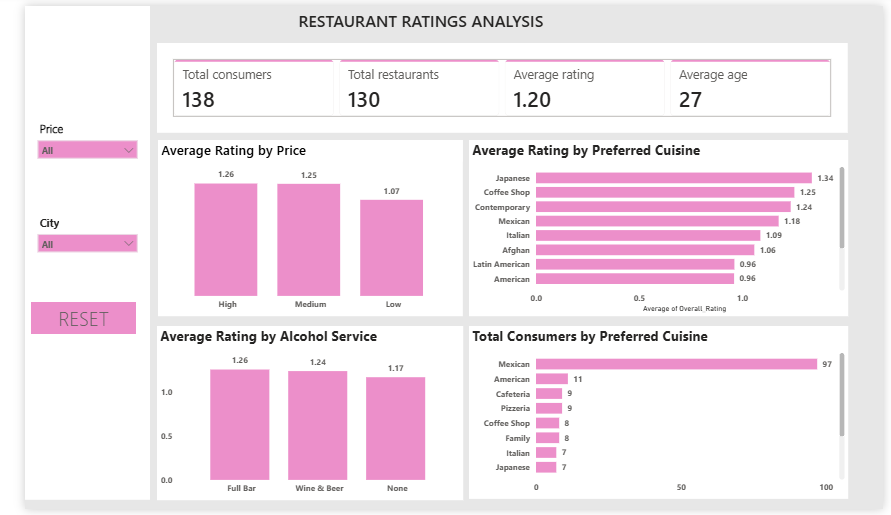

The dashboard page shown, as its layout file describes it:
{"tool":"powerbi","page":{"name":"DASHBOARD","canvas":[1281,750],"ordinal":0},"visuals":[{"type":"clusteredColumnChart","title":"Average Rating by Price","fields":{"Category":["restaurants.Price"],"Y":["Avg(ratings.Overall_Rating)"]},"box":[198.5,200,455.2,262.7],"z":0},{"type":"clusteredColumnChart","title":"Average Rating by Alcohol Service","fields":{"Category":["restaurants.Alcohol_Service"],"Y":["Avg(ratings.Overall_Rating)"]},"box":[197,477.6,456.7,259.7],"z":1000},{"type":"clusteredBarChart","title":"Average Rating by Preferred Cuisine","fields":{"Category":["consumer preferences.Preferred_Cuisine"],"Y":["Avg(ratings.Overall_Rating)"]},"box":[662.7,200,565.7,262.7],"z":2000},{"type":"cardVisual","fields":{"Data":["consumer.Total consumers","consumer.Total restaurants","consumer.Average rating","consumer.Average age"]},"box":[197.1,55.7,1031.4,134.3],"z":3000},{"type":"clusteredBarChart","title":"Total Consumers by Preferred Cuisine","fields":{"Category":["consumer preferences.Preferred_Cuisine"],"Y":["Count(consumer preferences.Consumer_ID)"]},"box":[662.7,477.6,565.7,258.2],"z":4000},{"type":"textbox","box":[197,0,788.1,55.2],"z":5000},{"type":"slicer","fields":{"Values":["restaurants.City"]},"box":[9,316.4,168.7,225.4],"z":6000},{"type":"shape","box":[0,0,186.6,737.3],"z":7000},{"type":"slicer","fields":{"Values":["restaurants.Price"]},"box":[9,165.7,168.7,67.2],"z":8000},{"type":"slicer","fields":{"Values":["restaurants.City"]},"box":[9,307.5,168.7,67.2],"z":9000},{"type":"actionButton","box":[9,441.8,156.7,47.8],"z":10000}]}

Visuals, with their boxes in screenshot pixels (x1, y1, x2, y2), scaled from the page's 1281x750 canvas onto the 891x515 screenshot:
"Average Rating by Price" clusteredColumnChart: [left=138, top=137, right=455, bottom=318]
"Average Rating by Alcohol Service" clusteredColumnChart: [left=137, top=328, right=455, bottom=506]
"Average Rating by Preferred Cuisine" clusteredBarChart: [left=461, top=137, right=854, bottom=318]
cardVisual - consumer.Total consumers x consumer.Total restaurants: [left=137, top=38, right=854, bottom=130]
"Total Consumers by Preferred Cuisine" clusteredBarChart: [left=461, top=328, right=854, bottom=505]
textbox: [left=137, top=0, right=685, bottom=38]
slicer - restaurants.City: [left=6, top=217, right=124, bottom=372]
shape: [left=0, top=0, right=130, bottom=506]
slicer - restaurants.Price: [left=6, top=114, right=124, bottom=160]
slicer - restaurants.City: [left=6, top=211, right=124, bottom=257]
actionButton: [left=6, top=303, right=115, bottom=336]
